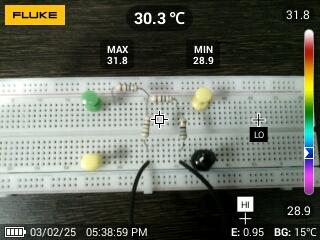resistor: (147, 93, 177, 106), (176, 116, 189, 143), (140, 115, 152, 141), (114, 83, 142, 93)
